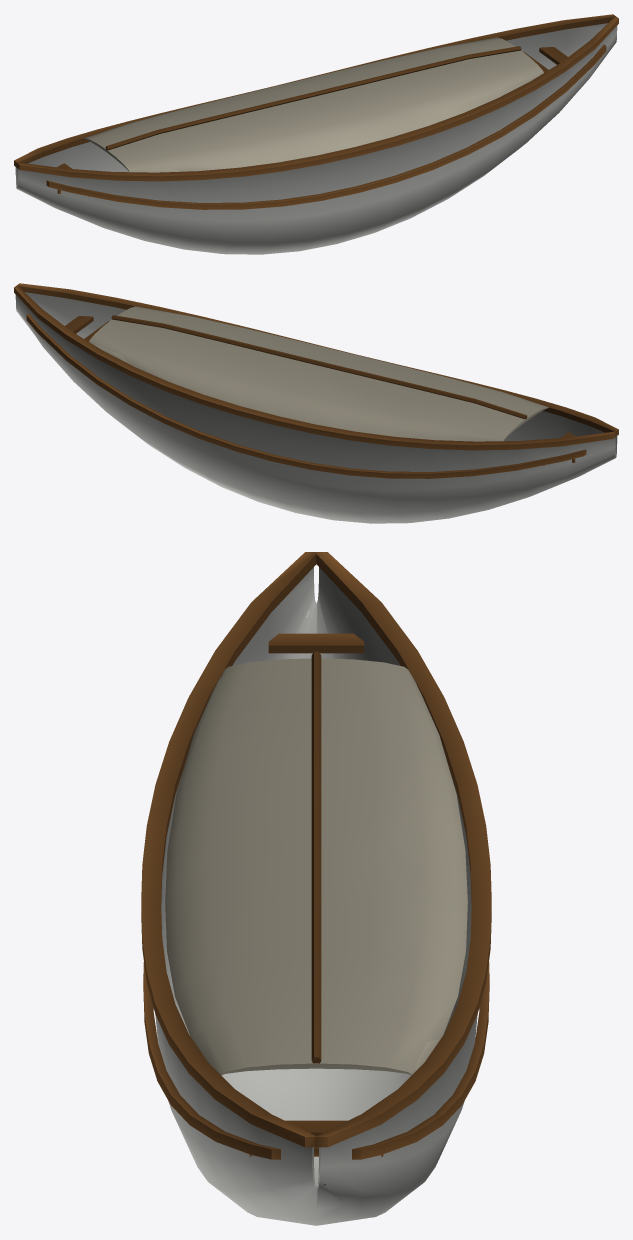
File: lifeboat-large.glb
3 renders of one model, top to bottom at view 1: azimuth 30°, elevation 25°; view 2: azimuth 150°, elevation 25°; view 3: azimuth 270°, elevation 25°, orthographic. The views are drawn at different scales.
Visible parts, largest first — view 1: lifeboat, boatCover, gunwale; view 2: lifeboat, boatCover, gunwale; view 3: boatCover, gunwale, lifeboat.
Boxes of the visible parts, box(x1,y1,x2,y2) form: lifeboat: box(15, 23, 617, 254); boatCover: box(84, 37, 543, 172); gunwale: box(14, 14, 618, 209); lifeboat: box(15, 292, 617, 523); boatCover: box(89, 306, 548, 441); gunwale: box(14, 283, 618, 478); boatCover: box(165, 658, 467, 1075); gunwale: box(141, 552, 491, 1159); lifeboat: box(155, 567, 477, 1225).
Bounding box in the file's own units: 1.94 × 0.452 × 0.4922.
